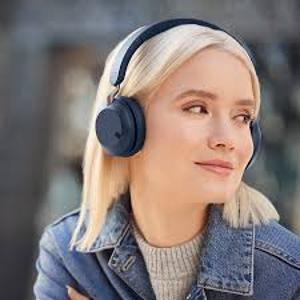Headphones: (94, 17, 261, 170)
